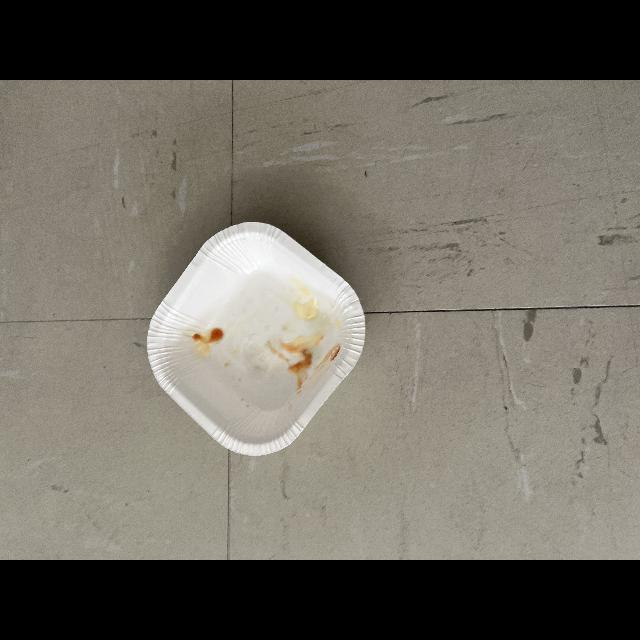cardboard_bowl: (129, 212, 379, 468)
